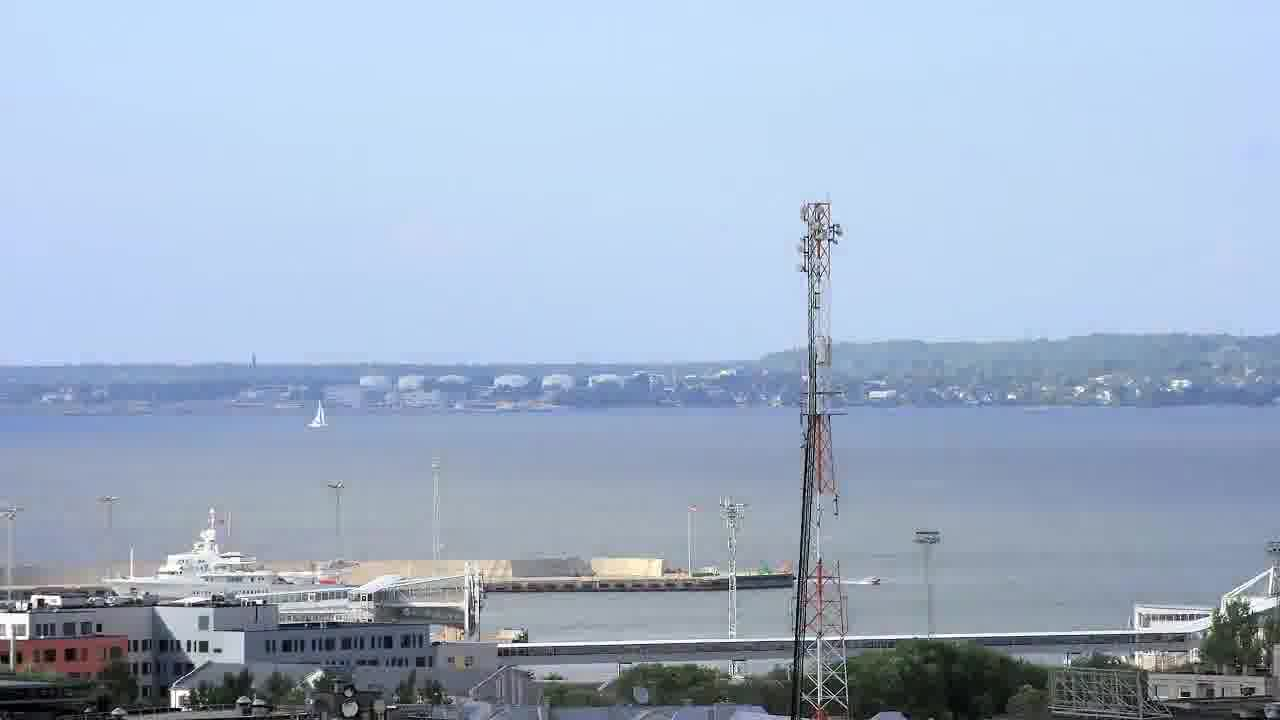type-2: (291, 383, 343, 446)
type-3: (88, 507, 346, 605)
type-4: (852, 567, 899, 602)
